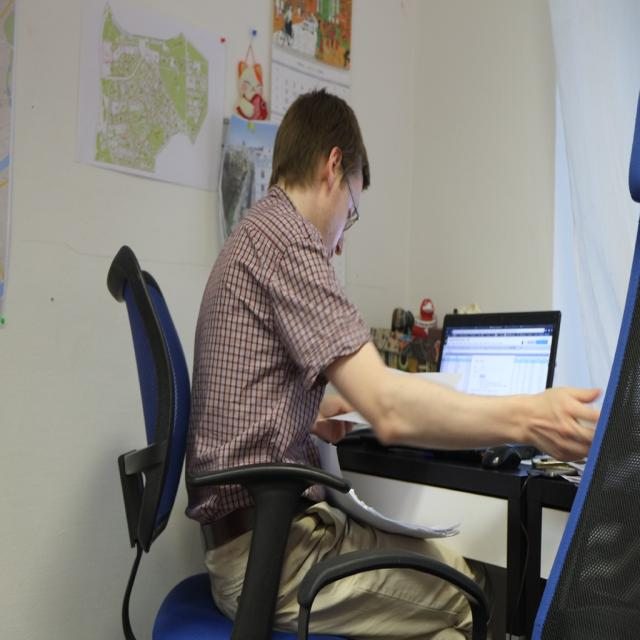no_helmet: (278, 156, 372, 236)
